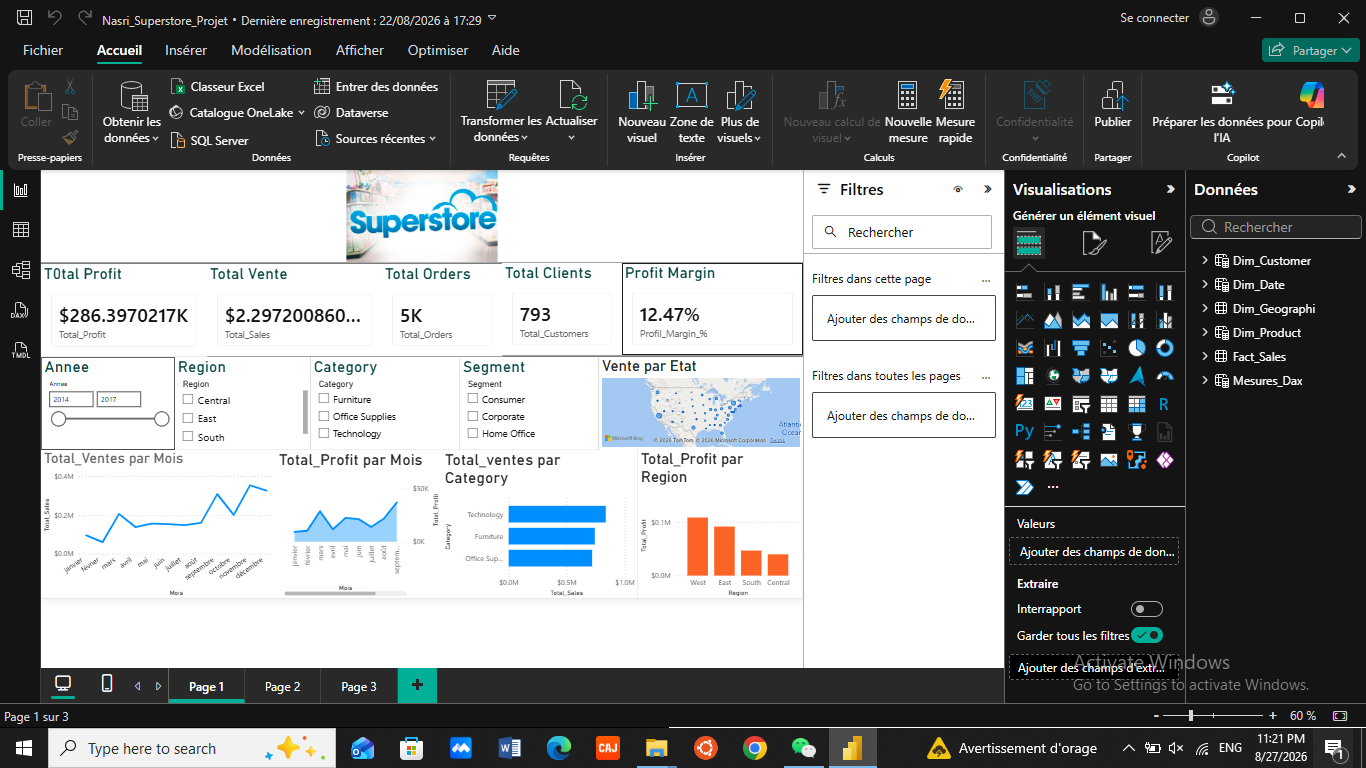

Layout of this report page (visuals, bound fields, positions):
{"tool":"powerbi","page":{"name":"Page 1","canvas":[1280,720],"ordinal":0},"visuals":[{"type":"cardVisual","title":"Total  Vente","fields":{"Data":["Mesures_Dax.Total_Sales"]},"box":[278.8,157.9,294,154.5],"z":0},{"type":"cardVisual","title":"T0tal Profit","fields":{"Data":["Mesures_Dax.Total_Profit"]},"box":[0,157.9,278.8,156.2],"z":1000},{"type":"cardVisual","title":"Total Orders","fields":{"Data":["Mesures_Dax.Total_Orders"]},"box":[572.8,157.9,201.6,154.5],"z":2000},{"type":"cardVisual","title":"Total Clients","fields":{"Data":["Mesures_Dax.Total_Customers"]},"box":[774.4,156.2,201.6,154.5],"z":3000},{"type":"cardVisual","title":"Profit Margin","fields":{"Data":["Mesures_Dax.Profil_Margin_%"]},"box":[976,156.2,304,154.5],"z":4000},{"type":"image","box":[0,0,1280,154.5],"z":5000},{"type":"slicer","title":"Annee","fields":{"Values":["Dim_Date.Annee"]},"box":[0,314.1,225.1,156.2],"z":6000},{"type":"slicer","title":"Region","fields":{"Values":["Dim_Geographi.Region"]},"box":[225.1,314.1,228.5,156.2],"z":7000},{"type":"slicer","title":"Category","fields":{"Values":["Dim_Product.Category"]},"box":[453.5,314.1,250.3,156.2],"z":8000},{"type":"slicer","title":"Segment","fields":{"Values":["Dim_Customer.Segment"]},"box":[703.8,314.1,233.5,156.2],"z":9000},{"type":"lineChart","title":"Total_Ventes par Mois","fields":{"Category":["Dim_Date.Mois"],"Y":["Mesures_Dax.Total_Sales"]},"box":[0,470.3,394.8,250.3],"z":10000},{"type":"areaChart","fields":{"Category":["Dim_Date.Mois"],"Y2":["Mesures_Dax.Total_Profit"]},"box":[395,470,279,250],"z":11000},{"type":"clusteredBarChart","title":"Total_ventes par Category","fields":{"Category":["Dim_Product.Category"],"Y":["Mesures_Dax.Total_Sales"]},"box":[674,470,329,250],"z":12000},{"type":"columnChart","fields":{"Category":["Dim_Geographi.Region"],"Y":["Mesures_Dax.Total_Profit"]},"box":[1003,470,277,250],"z":13000},{"type":"map","title":"Vente par Etat","fields":{"Category":["Dim_Geographi.State"],"Size":["Mesures_Dax.Total_Sales"]},"box":[937.3,314.1,342.7,156.2],"z":14000}]}

Visuals, with their boxes on the page's 1280x720 design canvas (x1, y1, x2, y2). These are canvas units, not pixel positions in the 1366x768 screenshot, which may show the page scaled, cropped or inside an application window:
"Total  Vente" cardVisual: <region>279, 158, 573, 312</region>
"T0tal Profit" cardVisual: <region>0, 158, 279, 314</region>
"Total Orders" cardVisual: <region>573, 158, 774, 312</region>
"Total Clients" cardVisual: <region>774, 156, 976, 311</region>
"Profit Margin" cardVisual: <region>976, 156, 1280, 311</region>
image: <region>0, 0, 1280, 154</region>
"Annee" slicer: <region>0, 314, 225, 470</region>
"Region" slicer: <region>225, 314, 454, 470</region>
"Category" slicer: <region>454, 314, 704, 470</region>
"Segment" slicer: <region>704, 314, 937, 470</region>
"Total_Ventes par Mois" lineChart: <region>0, 470, 395, 721</region>
areaChart - Dim_Date.Mois x Mesures_Dax.Total_Profit: <region>395, 470, 674, 720</region>
"Total_ventes par Category" clusteredBarChart: <region>674, 470, 1003, 720</region>
columnChart - Dim_Geographi.Region x Mesures_Dax.Total_Profit: <region>1003, 470, 1280, 720</region>
"Vente par Etat" map: <region>937, 314, 1280, 470</region>
